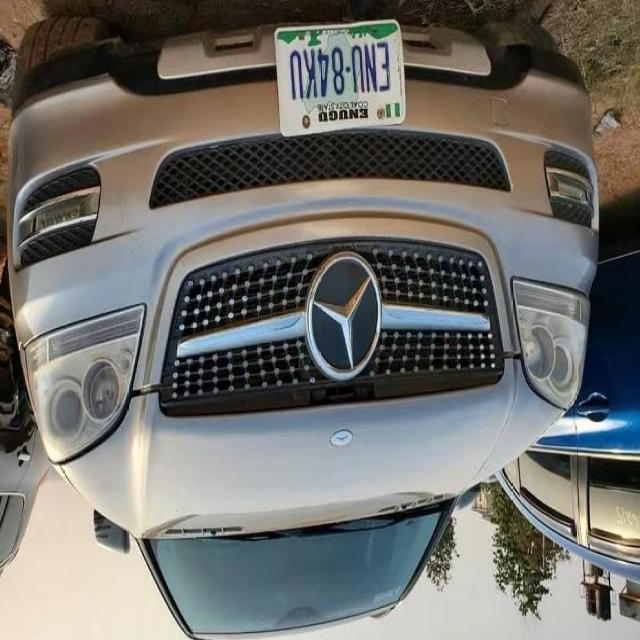Nigerian License Plate - vdataset benjamin-daria: (271, 7, 407, 143)
